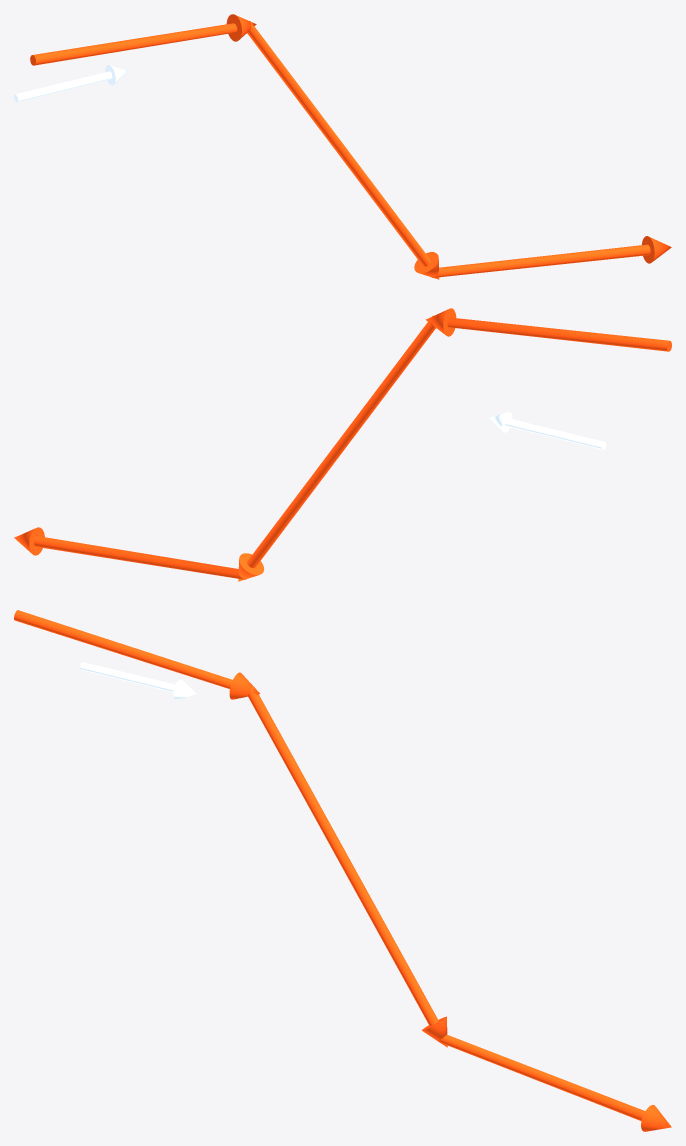
Rendered from desilication_tank_flow.glb.
The picture shows the model from 3 angles, top to bottom: view 1: azimuth 30°, elevation 25°; view 2: azimuth 150°, elevation 25°; view 3: azimuth 330°, elevation 25°; orthographic projection. The views are drawn at different scales.
Visible parts, largest first — view 1: slurry, steam; view 2: slurry, steam; view 3: slurry, steam.
Boxes of the visible parts, box(x1,y1,x2,y2) form: slurry: box(30, 14, 671, 279); steam: box(14, 65, 127, 101); slurry: box(14, 308, 671, 581); steam: box(489, 412, 605, 449); slurry: box(14, 610, 671, 1131); steam: box(80, 662, 196, 699).
Size of the model in its own units: 2.74 by 1.47 by 0.3878.
